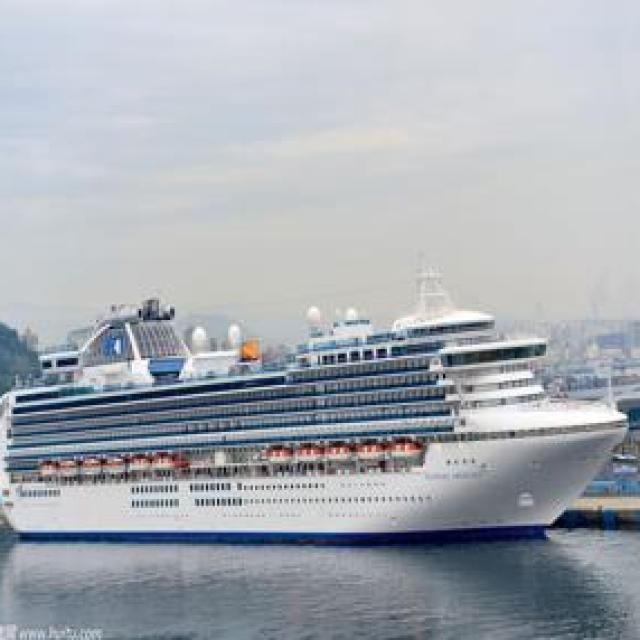passenger ship: (0, 255, 629, 537)
